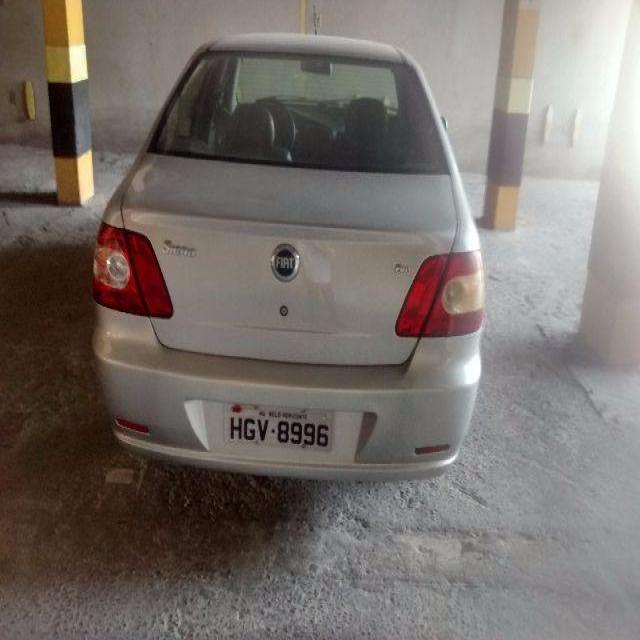Placa: (221, 400, 337, 456)
